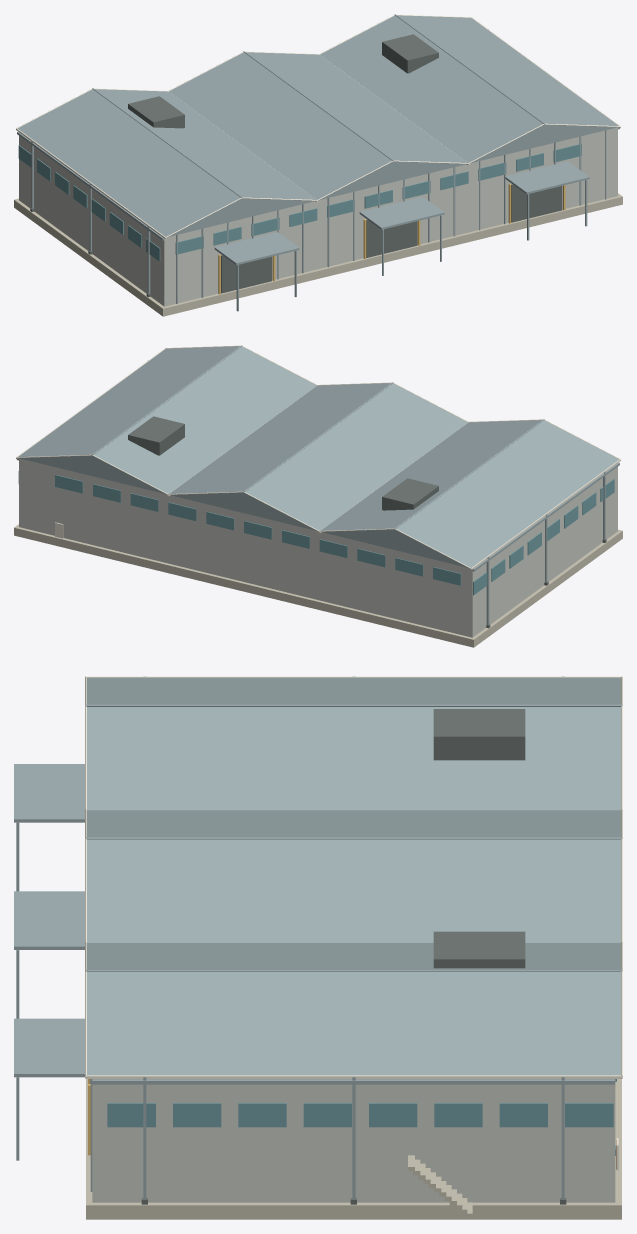
3 views of the same model, one above another, from view 1: azimuth 30°, elevation 25°; view 2: azimuth 150°, elevation 25°; view 3: azimuth 270°, elevation 25° (orthographic). The views are drawn at different scales.
Bounding box in the file's own units: 74.65 × 15.5 × 46.58.
